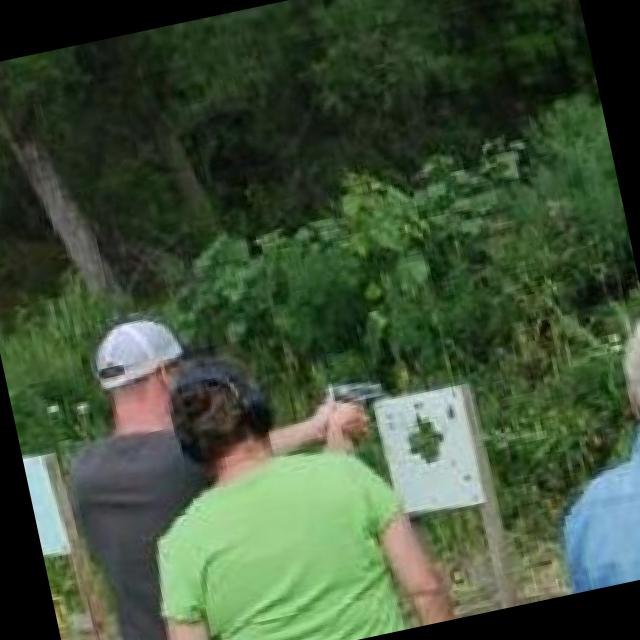Guns: (312, 366, 394, 432)
